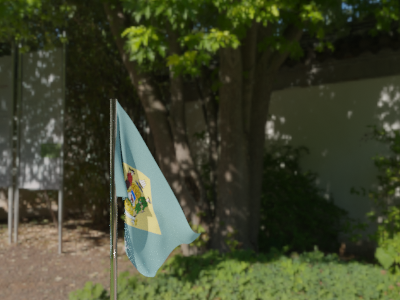Delaware flag: (114, 99, 202, 279)
